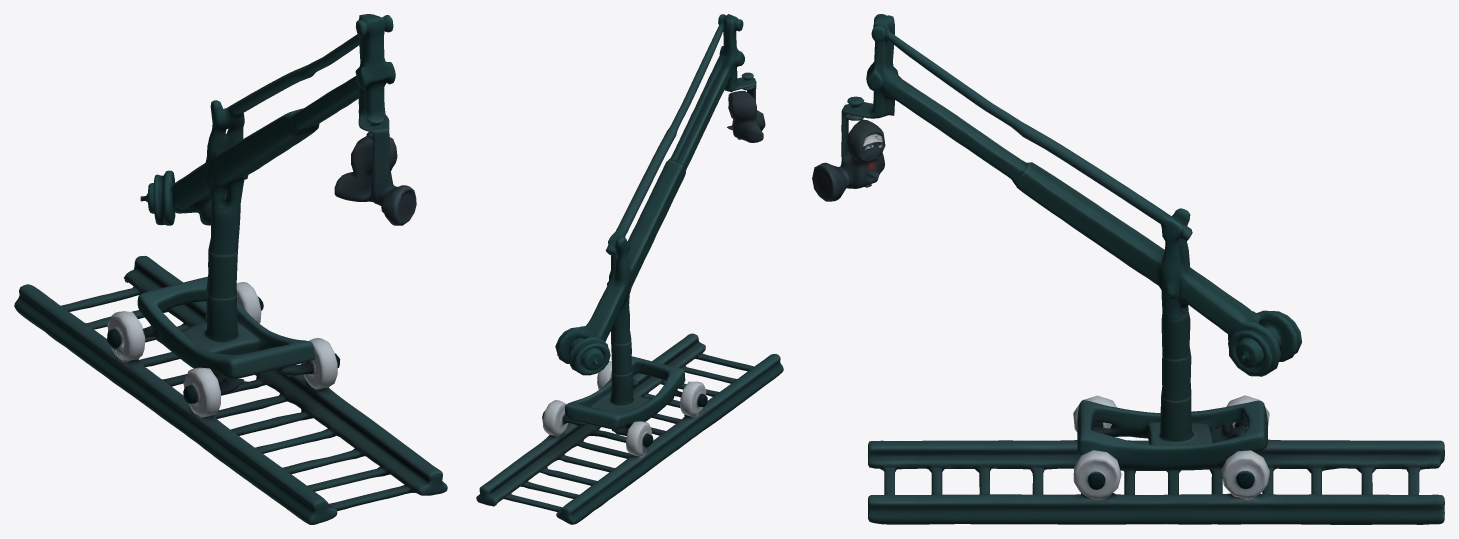
File: original.glb
3 renders of one model, left to right at view 1: azimuth 30°, elevation 25°; view 2: azimuth 150°, elevation 25°; view 3: azimuth 270°, elevation 25°, orthographic. The views are drawn at different scales.
Parts seen in each view (by area): view 1: model; view 2: model; view 3: model.
Boxes of the visible parts, bbox=[...] form: model: bbox=[14, 14, 447, 524]; model: bbox=[476, 14, 783, 524]; model: bbox=[812, 14, 1444, 524].
Size of the model in its own units: 0.5077 by 1.57 by 1.89.
Materials: 1 (1 with a texture image).
